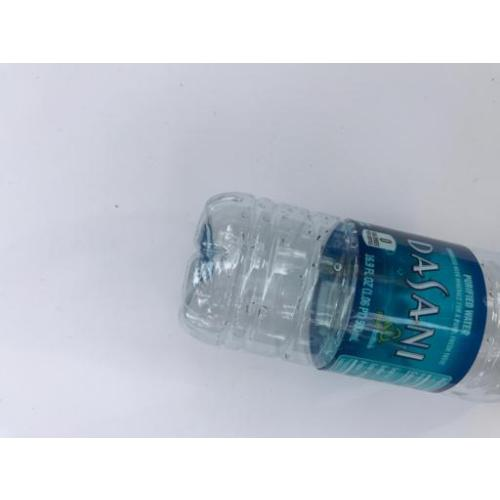plastic: (183, 195, 500, 395)
